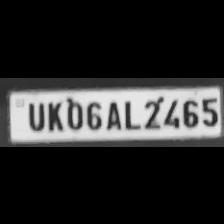0: (64, 96, 84, 130)
2: (139, 96, 161, 128)
4: (162, 94, 180, 128)
5: (198, 93, 220, 126)
6: (179, 95, 199, 127), (84, 97, 104, 128)
A: (102, 98, 122, 130)
K: (44, 97, 64, 131)
L: (120, 97, 138, 129)
U: (23, 97, 45, 130)
